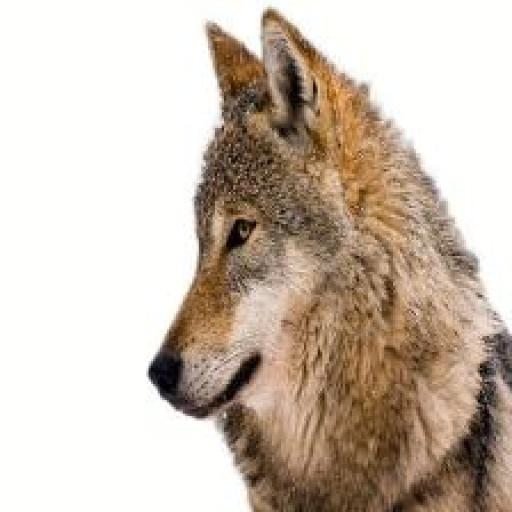wolf: (116, 2, 512, 511)
